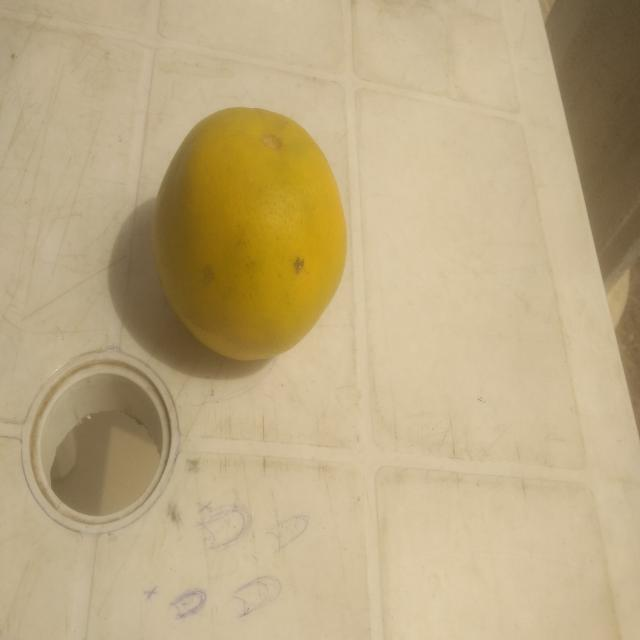Ripe orange: (148, 99, 349, 365)
